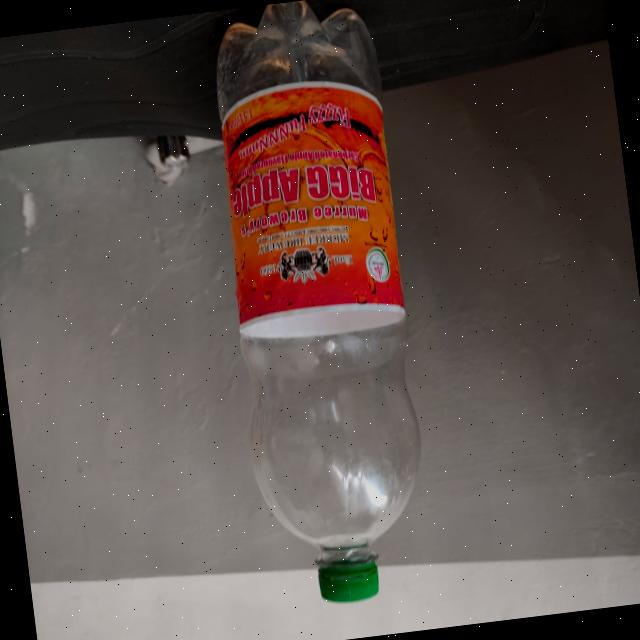bottle: (190, 0, 451, 621)
cap: (313, 550, 385, 610)
label: (202, 81, 408, 335)
